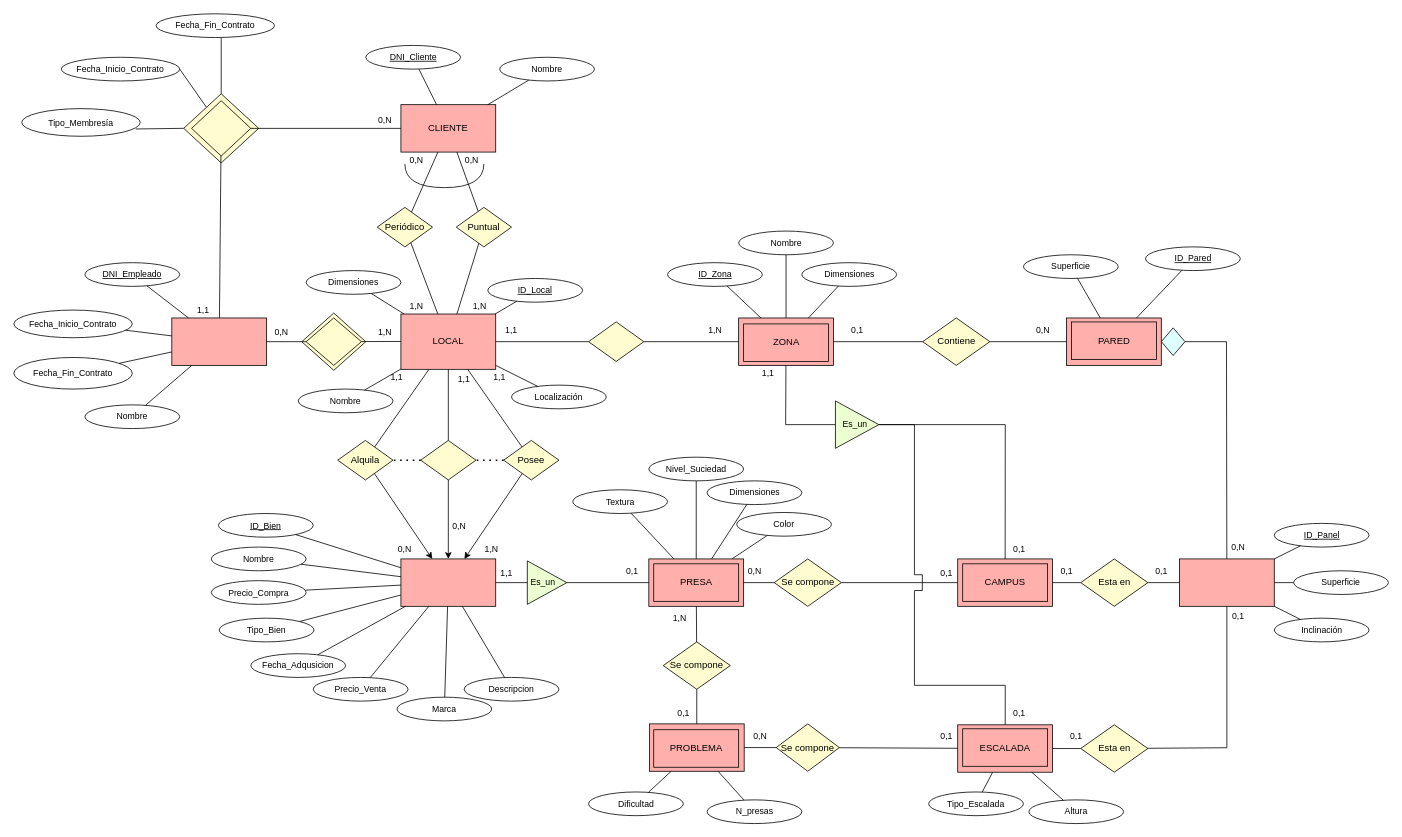
This 1402x837 diagram has some shape labels left out. Each missing label, with the box of its shape:
BIEN: (400, 558, 496, 606)
EMPLEADO: (171, 317, 267, 365)
PANEL: (1179, 558, 1274, 606)
Registro: (191, 100, 251, 156)
Tiene: (588, 321, 644, 361)
Trabaja: (305, 317, 361, 365)
Vende: (420, 440, 476, 480)
